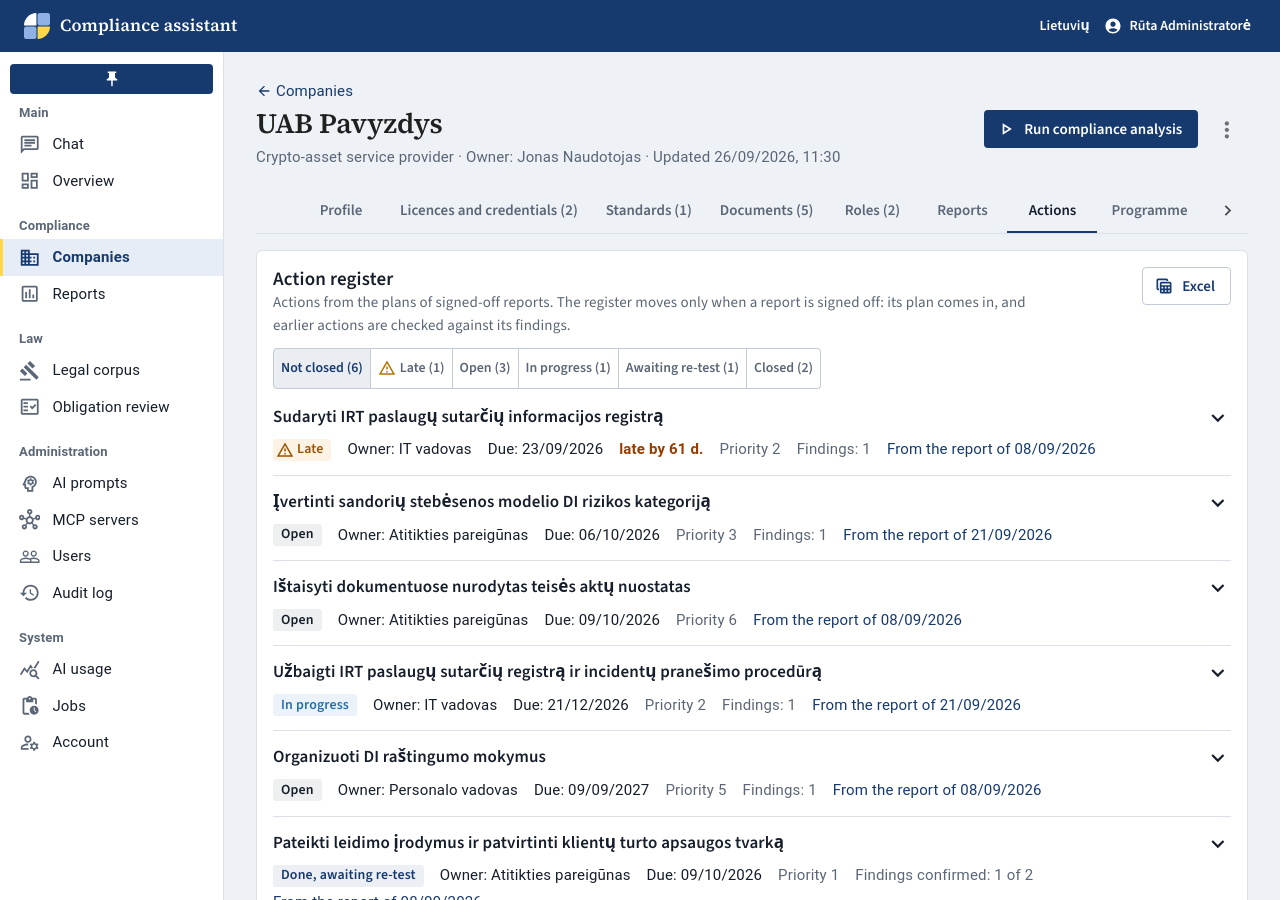
Test: CompanyActions — an opened row › a finding a later report found met carries "confirmed" with the date and the way to that report; the other does not
The image size is (1280, 900).
Expected: the heading "UAB Pavyzdys" is shown, [256,104,442,142]
Click the button "Pateikti leidimo įrodymus ir patvirtinti klientų turto apsaugos tvarką" at (752, 844), box [273,831,1231,856]
(page scrolled)
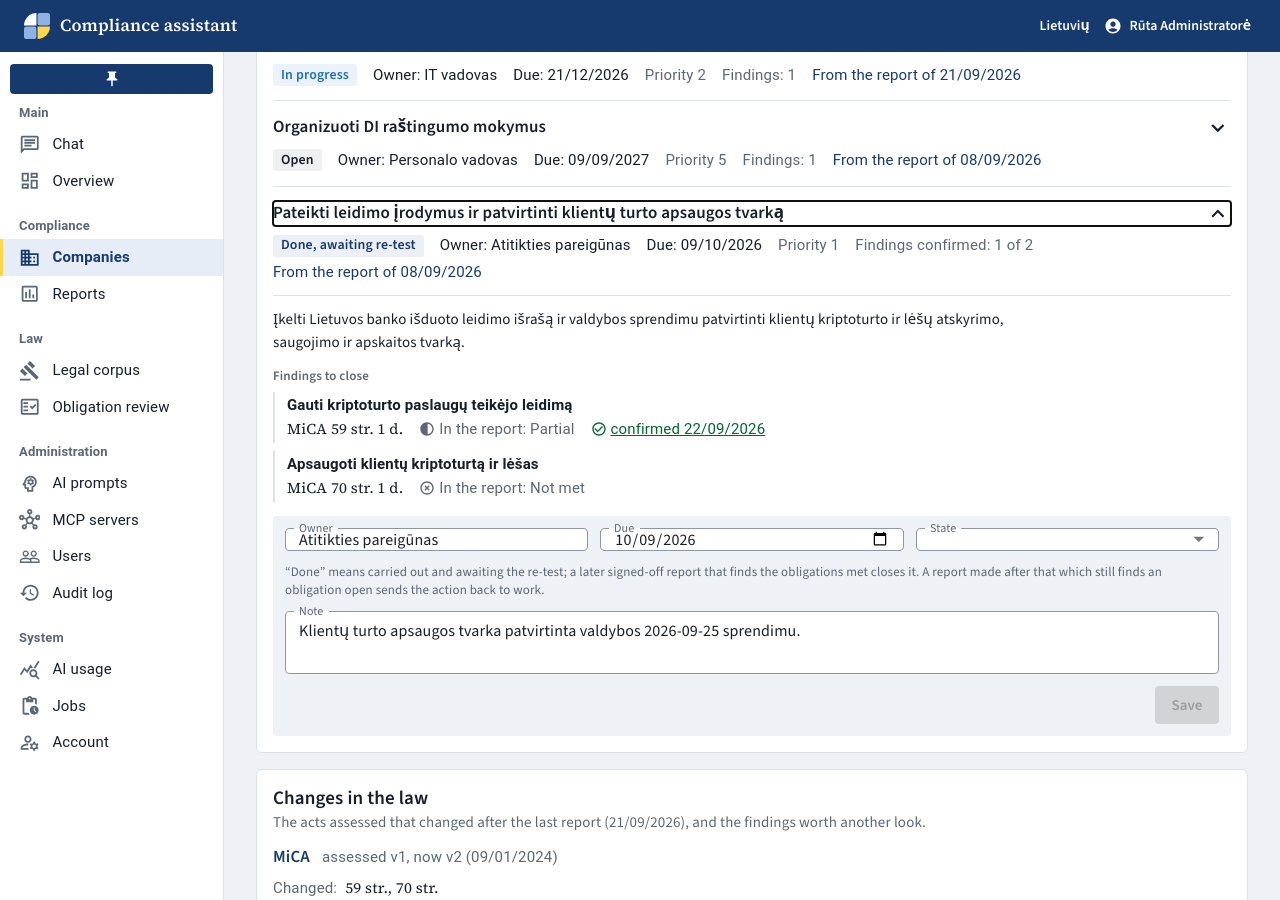
Now the 3rd list item shows "Gauti kriptoturto paslaugų teikėjo leidimą", box [287,396,572,414]
Now the 3rd list item shows "MiCA 59 str. 1 d.", box [287,418,403,439]
Now the 3rd list item shows "In the report: Partial", box [439,420,574,438]
